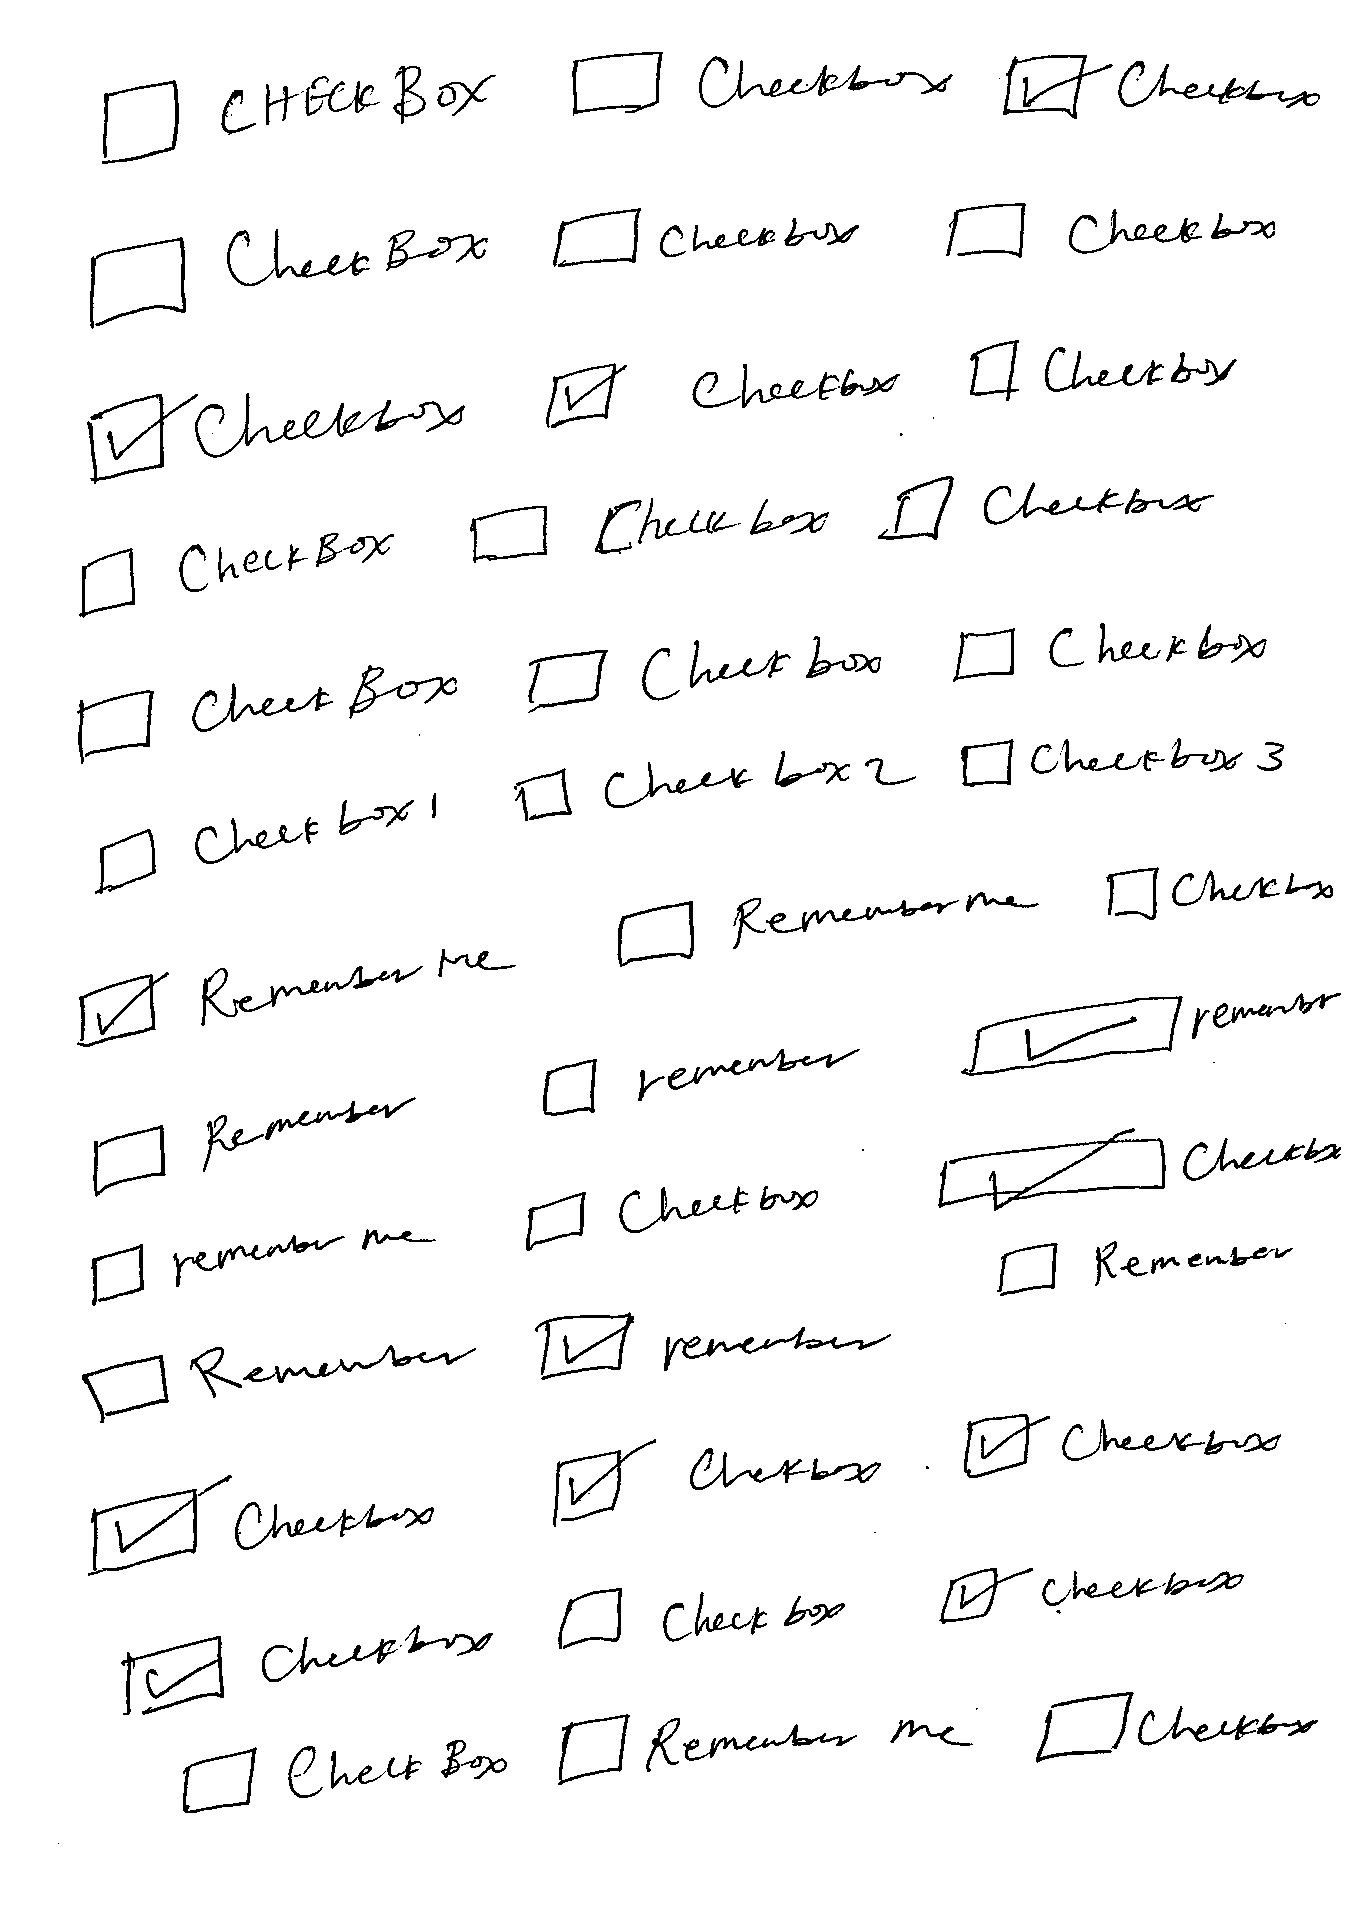Check Box: (77, 948, 512, 1050), (86, 223, 492, 330), (99, 64, 497, 167), (75, 662, 461, 764), (96, 791, 442, 899), (89, 1474, 435, 1581), (87, 389, 469, 483), (123, 1626, 497, 1720), (90, 1096, 421, 1198), (615, 889, 1036, 968), (78, 1343, 473, 1424), (556, 1712, 971, 1788), (77, 526, 395, 620), (514, 753, 917, 822), (92, 1229, 432, 1309), (525, 637, 884, 711), (546, 356, 900, 430), (571, 49, 954, 117), (548, 1446, 878, 1524), (537, 1311, 888, 1382), (179, 1740, 509, 1816), (540, 1042, 857, 1118), (470, 497, 826, 563), (891, 472, 1217, 544), (1035, 1689, 1323, 1765), (961, 1412, 1282, 1480), (1002, 53, 1320, 121), (550, 204, 863, 269), (523, 1186, 819, 1252), (951, 622, 1268, 683), (556, 1586, 846, 1652), (945, 201, 1277, 257), (936, 1566, 1245, 1625), (959, 735, 1286, 790), (995, 1241, 1292, 1300), (968, 339, 1239, 402), (1104, 866, 1335, 921)
